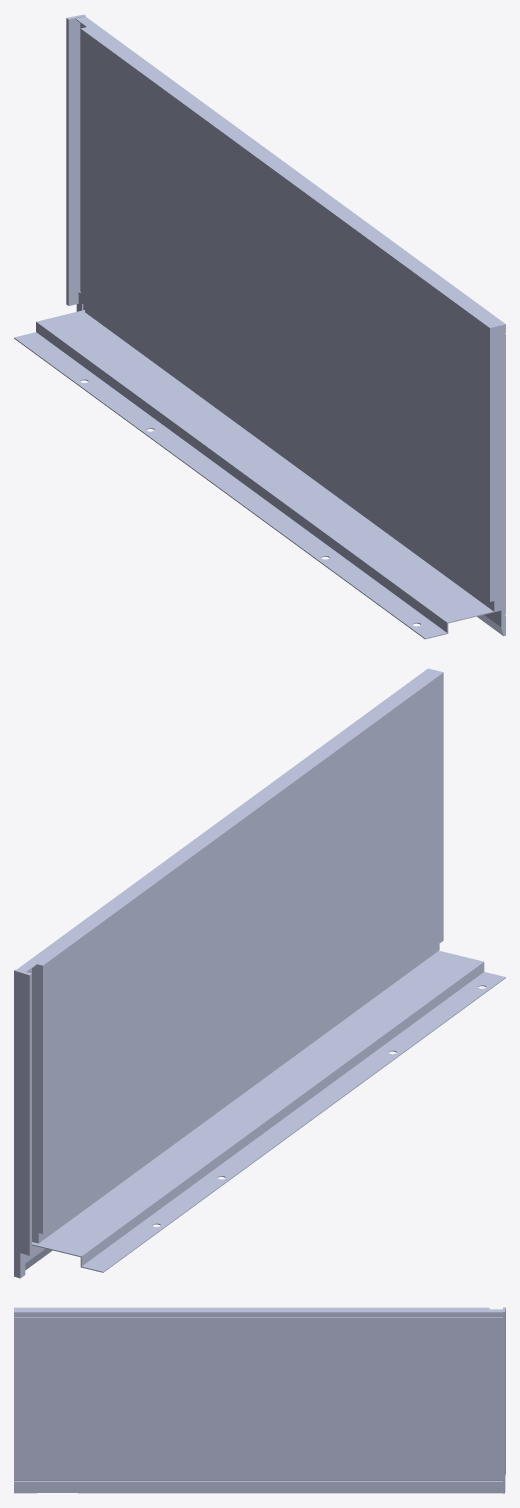
Rendered from lg-kava-F600-m.glb.
3 views of the same model, one above another, from view 1: azimuth 30°, elevation 25°; view 2: azimuth 150°, elevation 25°; view 3: azimuth 270°, elevation 25° (orthographic). The views are drawn at different scales.
Visible parts, largest first — view 1: 43303020; view 2: 43303020; view 3: 43303020.
Part boxes in pixels (box(x1,y1,x2,y2)): 43303020: box(14, 14, 505, 639); 43303020: box(14, 668, 505, 1278); 43303020: box(14, 1307, 505, 1493).
Bounding box in the file's own units: 0.0653 × 0.2417 × 0.5935.
